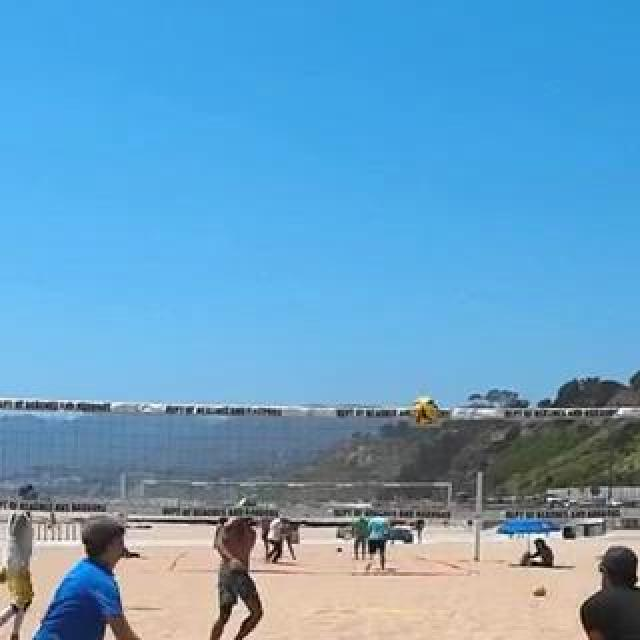volleyball: (413, 399, 439, 425), (533, 584, 547, 598)
